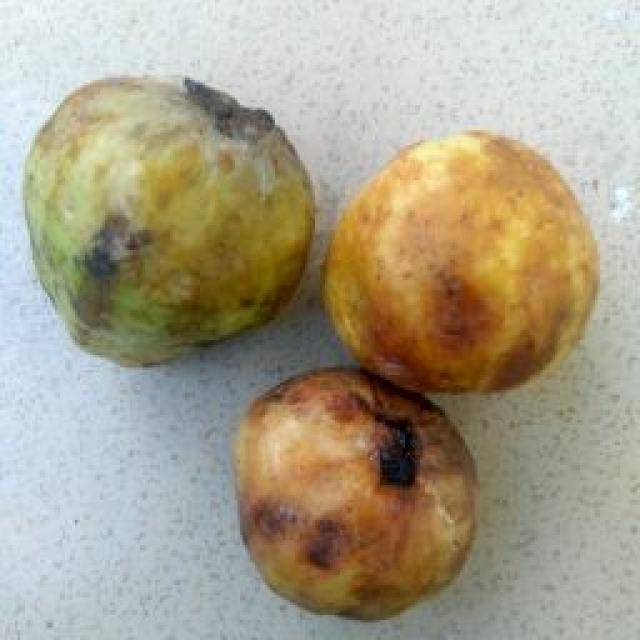Bad_Guava: (25, 79, 312, 364), (234, 369, 476, 618)
